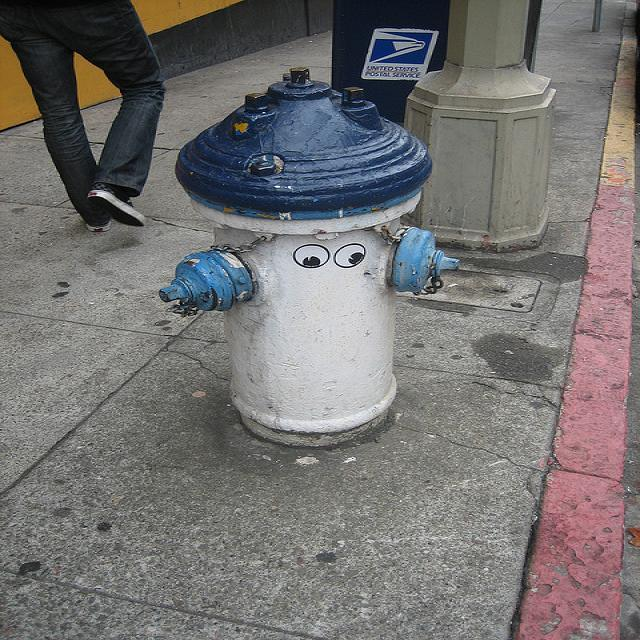fire_hydrant: (158, 61, 456, 447)
